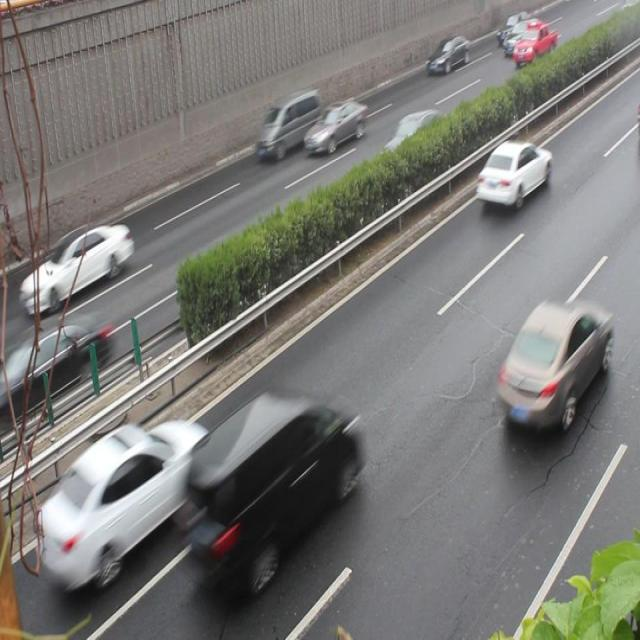car: (182, 389, 356, 589), (36, 412, 208, 586), (494, 297, 610, 428), (0, 316, 113, 417), (28, 219, 134, 311), (474, 136, 548, 206), (378, 107, 443, 166), (301, 96, 364, 153)
